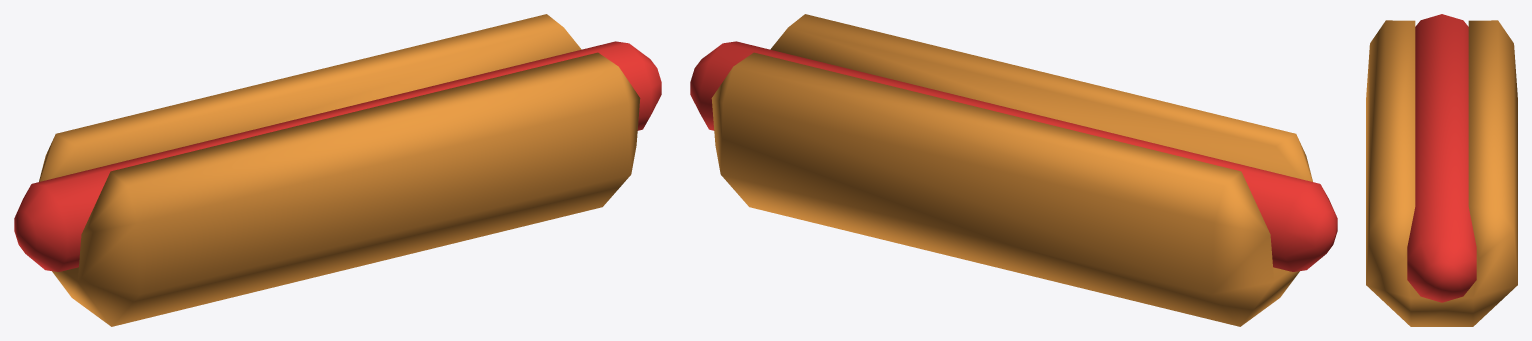
Rendered from HotDog.fbx.
3 renders of one model, left to right at view 1: azimuth 30°, elevation 25°; view 2: azimuth 150°, elevation 25°; view 3: azimuth 270°, elevation 25°, orthographic. The views are drawn at different scales.
Parts seen in each view (by area): view 1: Hotdog; view 2: Hotdog; view 3: Hotdog.
Boxes of the visible parts, left/top/right/bottom form: Hotdog: left=14, top=14, right=661, bottom=326; Hotdog: left=690, top=14, right=1337, bottom=326; Hotdog: left=1366, top=14, right=1517, bottom=326.
Size of the model in its own units: 33.38 by 7.62 by 8.76.
